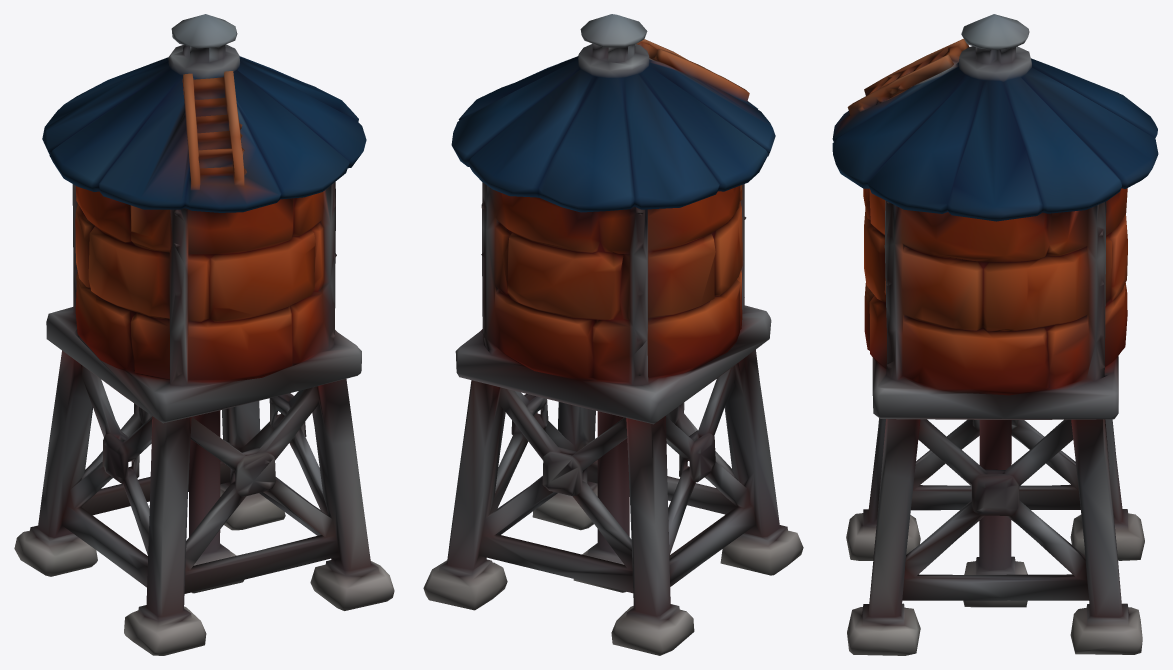
File: meshy-watertower.glb
3 views of the same model, side by side, from view 1: azimuth 30°, elevation 25°; view 2: azimuth 150°, elevation 25°; view 3: azimuth 270°, elevation 25° (orthographic). The views are drawn at different scales.
Visible parts, largest first — view 1: Mesh_0; view 2: Mesh_0; view 3: Mesh_0.
Part boxes in pixels (x1=…): Mesh_0: x1=14, y1=14, x2=394, y2=655; Mesh_0: x1=423, y1=14, x2=803, y2=655; Mesh_0: x1=832, y1=14, x2=1158, y2=655.
Size of the model in its own units: 0.995 by 1.9 by 0.9685.
